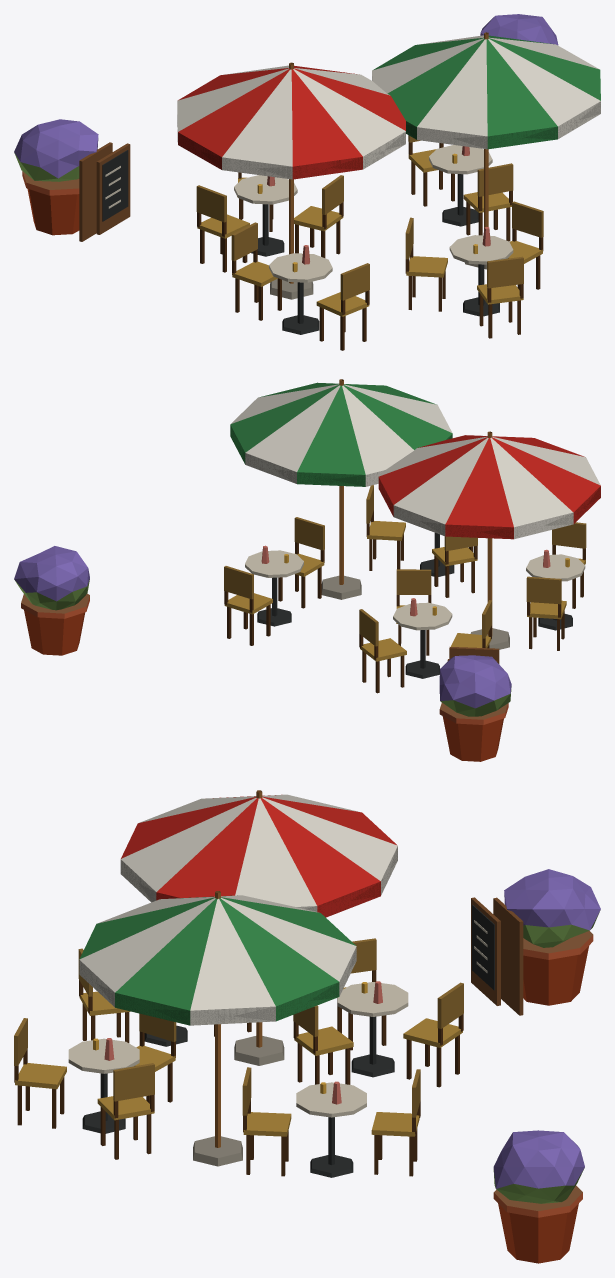
File: cafe.glb
The picture shows the model from 3 angles, top to bottom: view 1: azimuth 30°, elevation 25°; view 2: azimuth 150°, elevation 25°; view 3: azimuth 270°, elevation 25°; orthographic projection. The views are drawn at different scales.
Parts seen in each view (by area): view 1: cafe_terrace; view 2: cafe_terrace; view 3: cafe_terrace.
Boxes of the visible parts, x1,y1,x2,y2 form: cafe_terrace: (14,14,600,350); cafe_terrace: (14,379,600,761); cafe_terrace: (14,790,600,1263).
Bounding box in the file's own units: 6.9 × 2.8 × 5.68.
